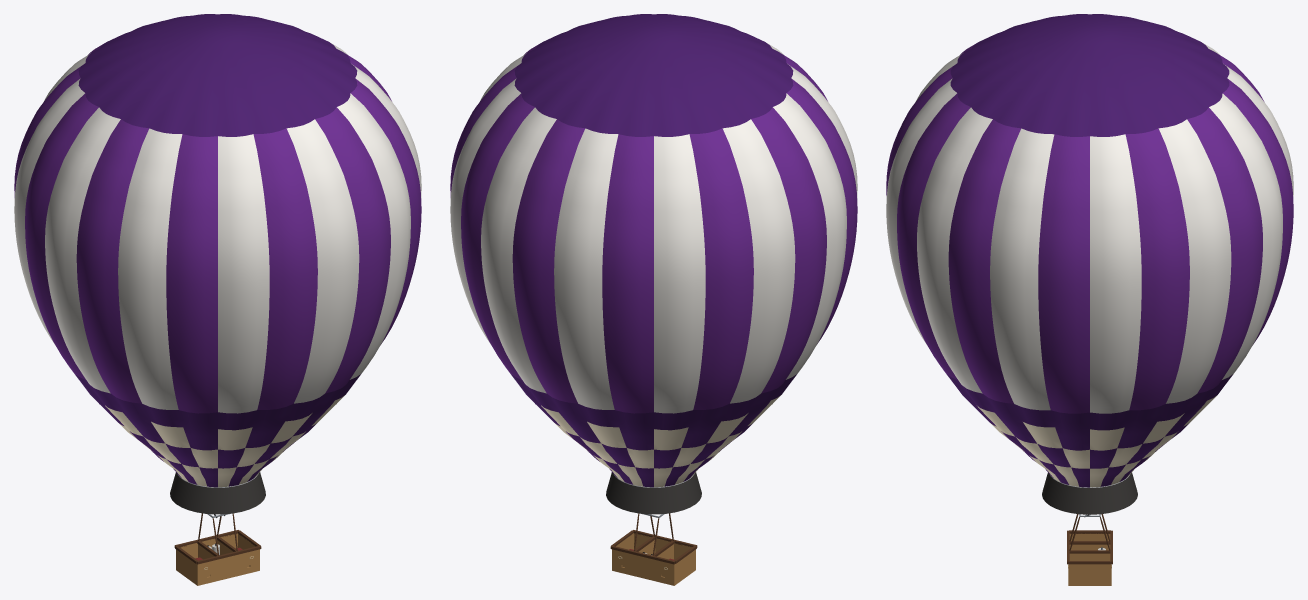
Rendered from balloon.glb.
The picture shows the model from 3 angles, left to right: view 1: azimuth 30°, elevation 25°; view 2: azimuth 150°, elevation 25°; view 3: azimuth 270°, elevation 25°; orthographic projection.
Parts seen in each view (by area): view 1: envelope_env_a, envelope_env_b, envelope_env_c, envelope_env_d, wicker0, skirt63; view 2: envelope_env_a, envelope_env_b, envelope_env_c, envelope_env_d, wicker0, skirt63; view 3: envelope_env_a, envelope_env_b, envelope_env_c, envelope_env_d, skirt63, wicker0.
Part boxes in pixels (x1=…): envelope_env_a: x1=14, y1=43, x2=421, y2=413; envelope_env_b: x1=14, y1=43, x2=421, y2=413; envelope_env_c: x1=75, y1=14, x2=360, y2=487; envelope_env_d: x1=105, y1=395, x2=344, y2=487; wicker0: x1=176, y1=533, x2=259, y2=585; skirt63: x1=170, y1=472, x2=265, y2=514; envelope_env_a: x1=450, y1=43, x2=857, y2=413; envelope_env_b: x1=450, y1=43, x2=857, y2=413; envelope_env_c: x1=511, y1=14, x2=796, y2=487; envelope_env_d: x1=541, y1=395, x2=780, y2=487; wicker0: x1=612, y1=533, x2=695, y2=585; skirt63: x1=606, y1=472, x2=701, y2=514; envelope_env_a: x1=886, y1=42, x2=1293, y2=413; envelope_env_b: x1=886, y1=42, x2=1293, y2=413; envelope_env_c: x1=946, y1=14, x2=1233, y2=487; envelope_env_d: x1=977, y1=395, x2=1217, y2=487; skirt63: x1=1042, y1=472, x2=1137, y2=514; wicker0: x1=1068, y1=533, x2=1111, y2=585.
Bounding box in the file's own units: 16.94 × 24.68 × 16.94.
